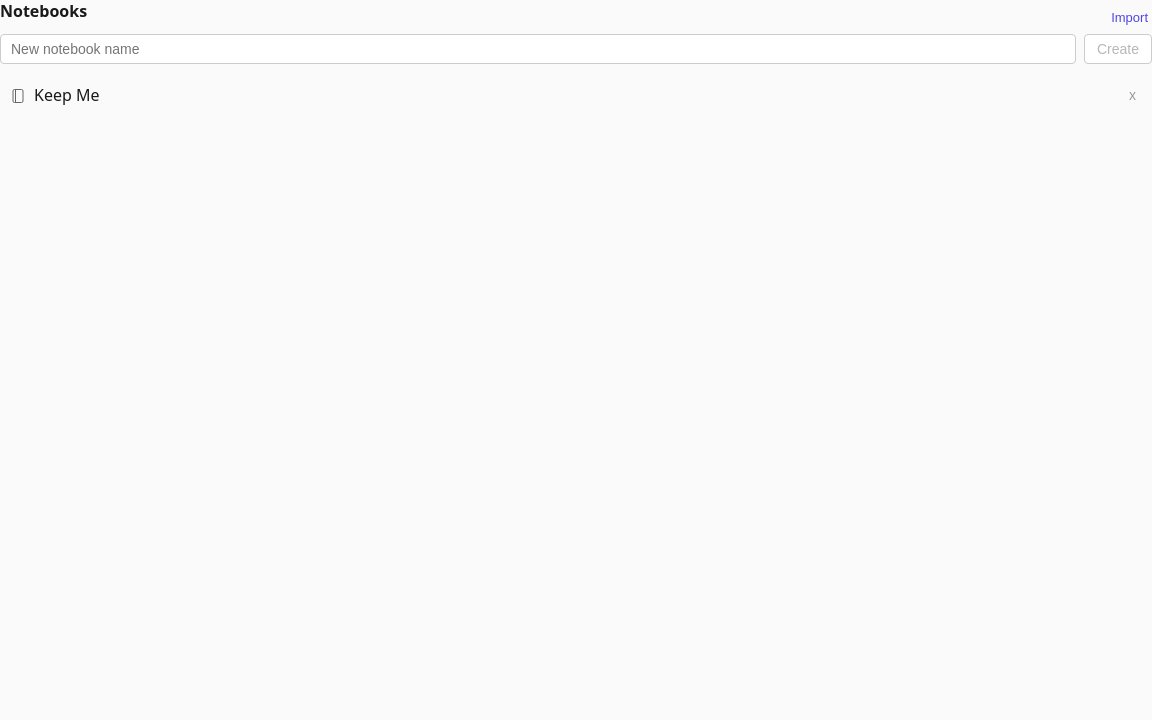
Test: NotebookList › does not delete when the confirmation is cancelled
This screenshot has width=1152, height=720.
Expected: the text "Keep Me" is shown, top-left (10, 84), bottom-right (100, 106)
Click the button "x": point(1132, 95) top-left (1123, 85), bottom-right (1142, 105)
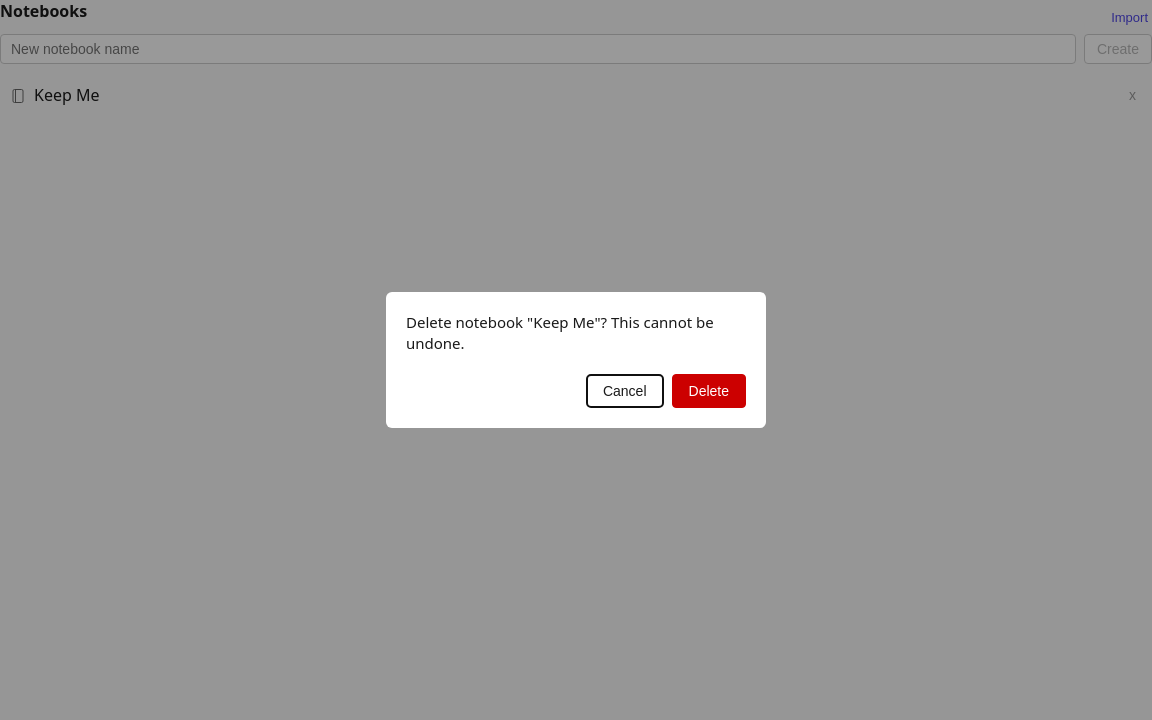
Click the button "Cancel": point(625, 391) top-left (586, 374), bottom-right (664, 408)
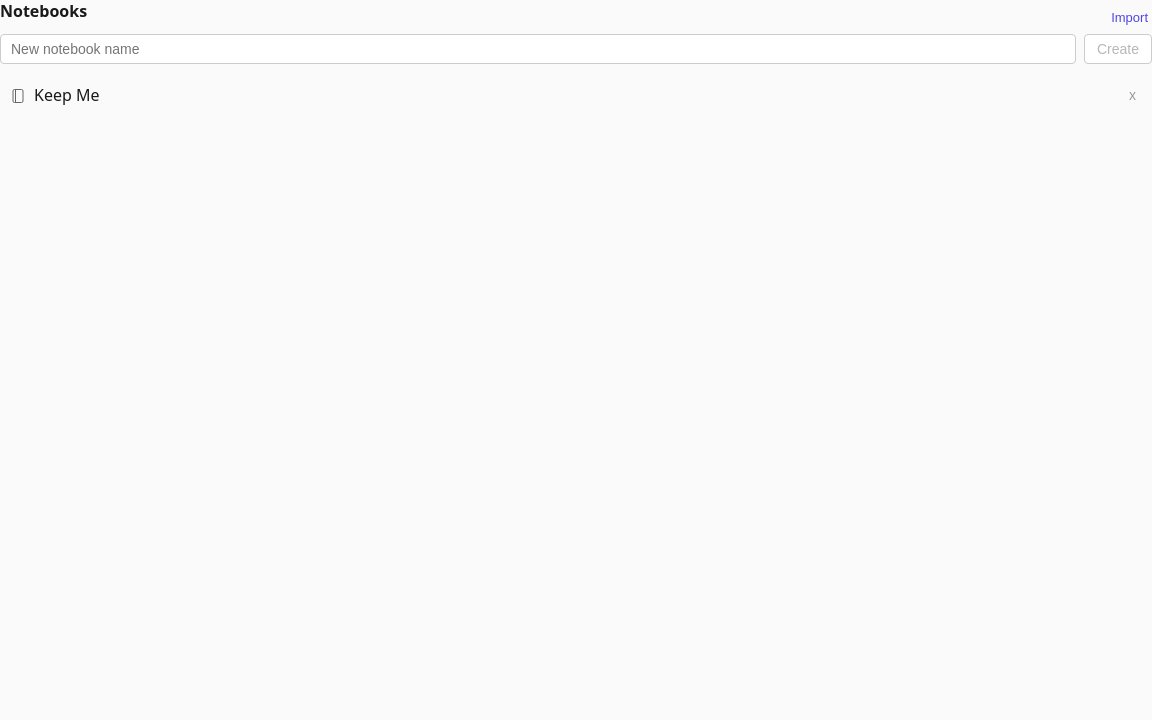
Result: the dialog is gone
